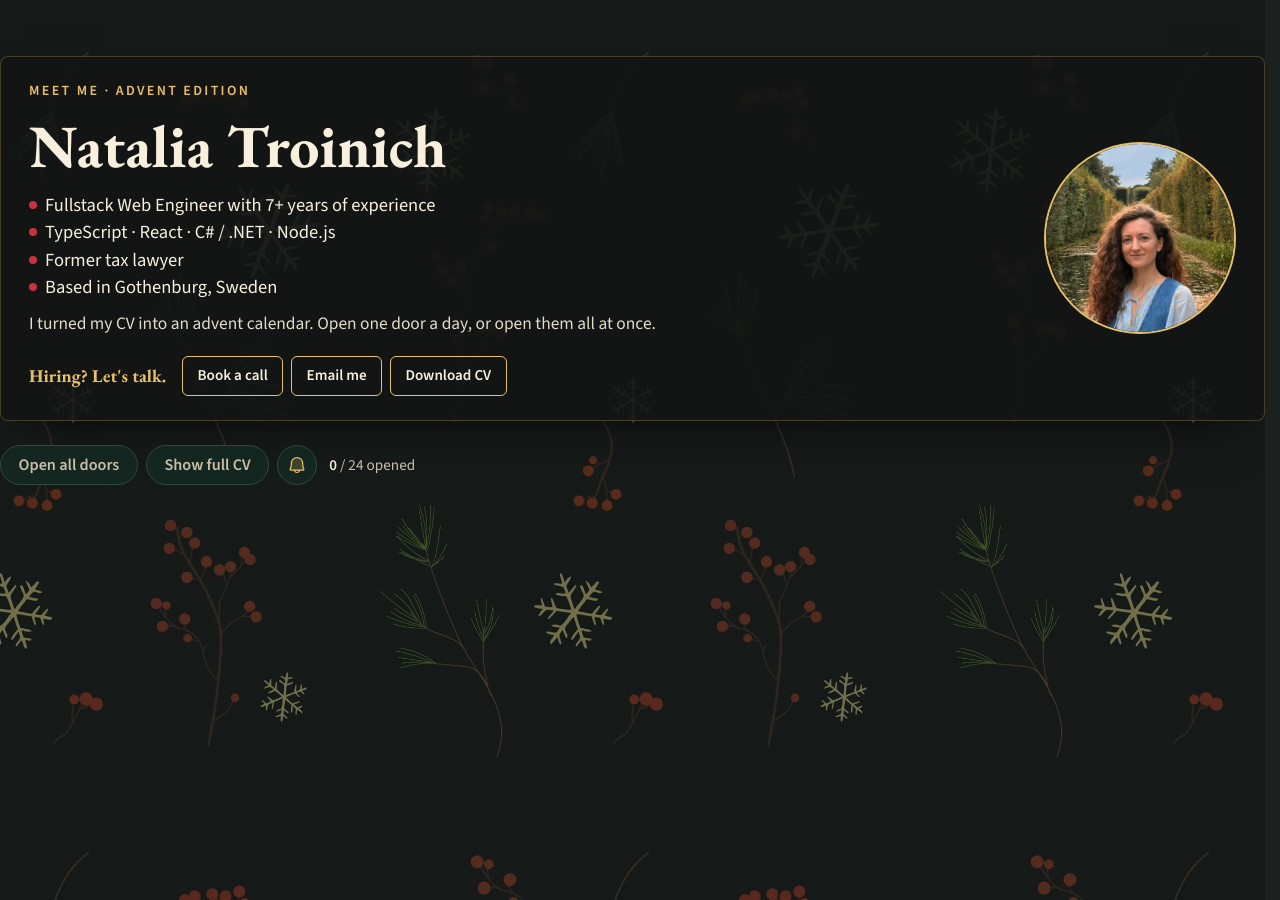
Test case: Header photo zoom › closes with Escape, the ✕ button, or a click
The width and height of the screenshot is (1280, 900).
Click the button named "Say hej: photo and intro". click: (1140, 238)
box: [1044, 142, 1236, 334]
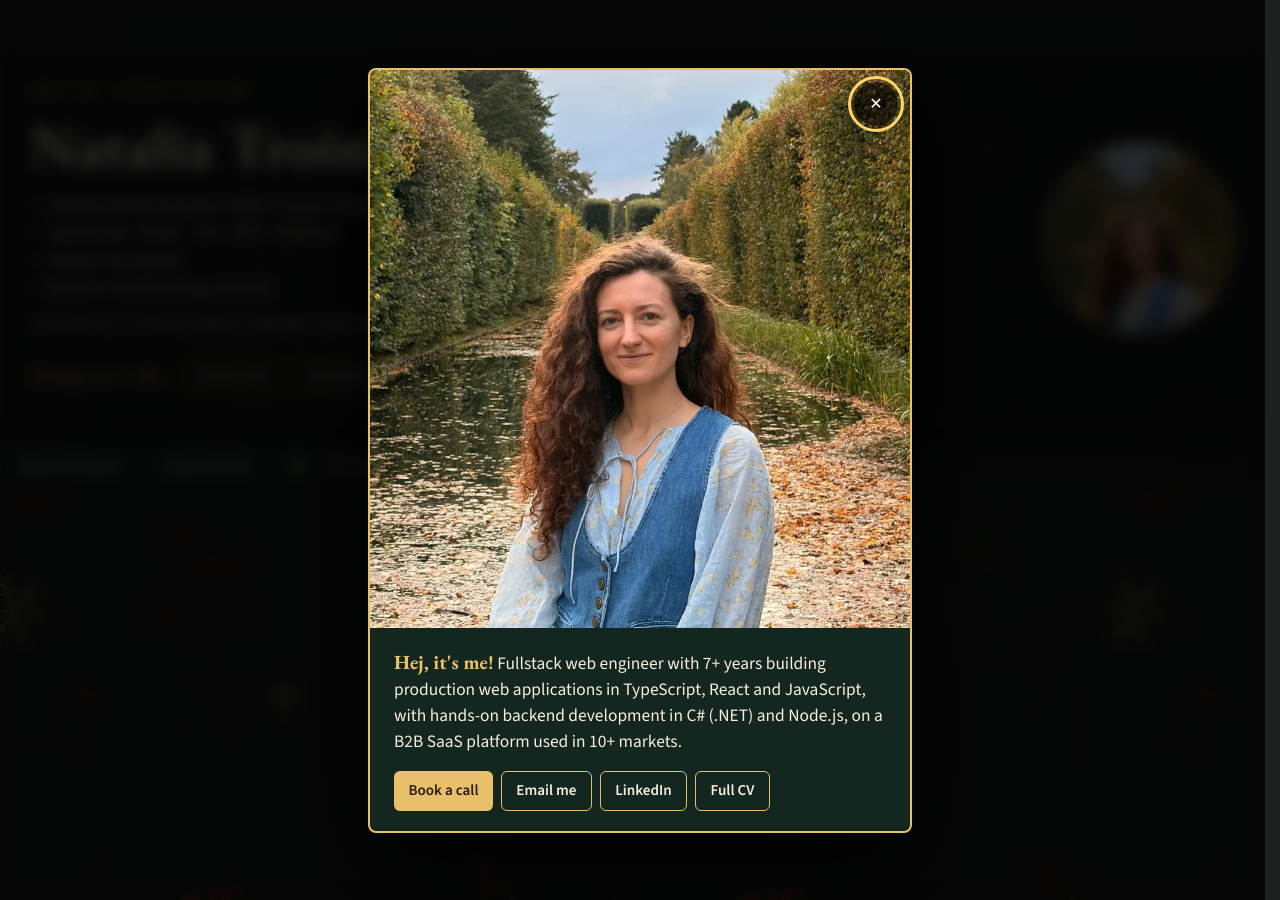
Press Escape
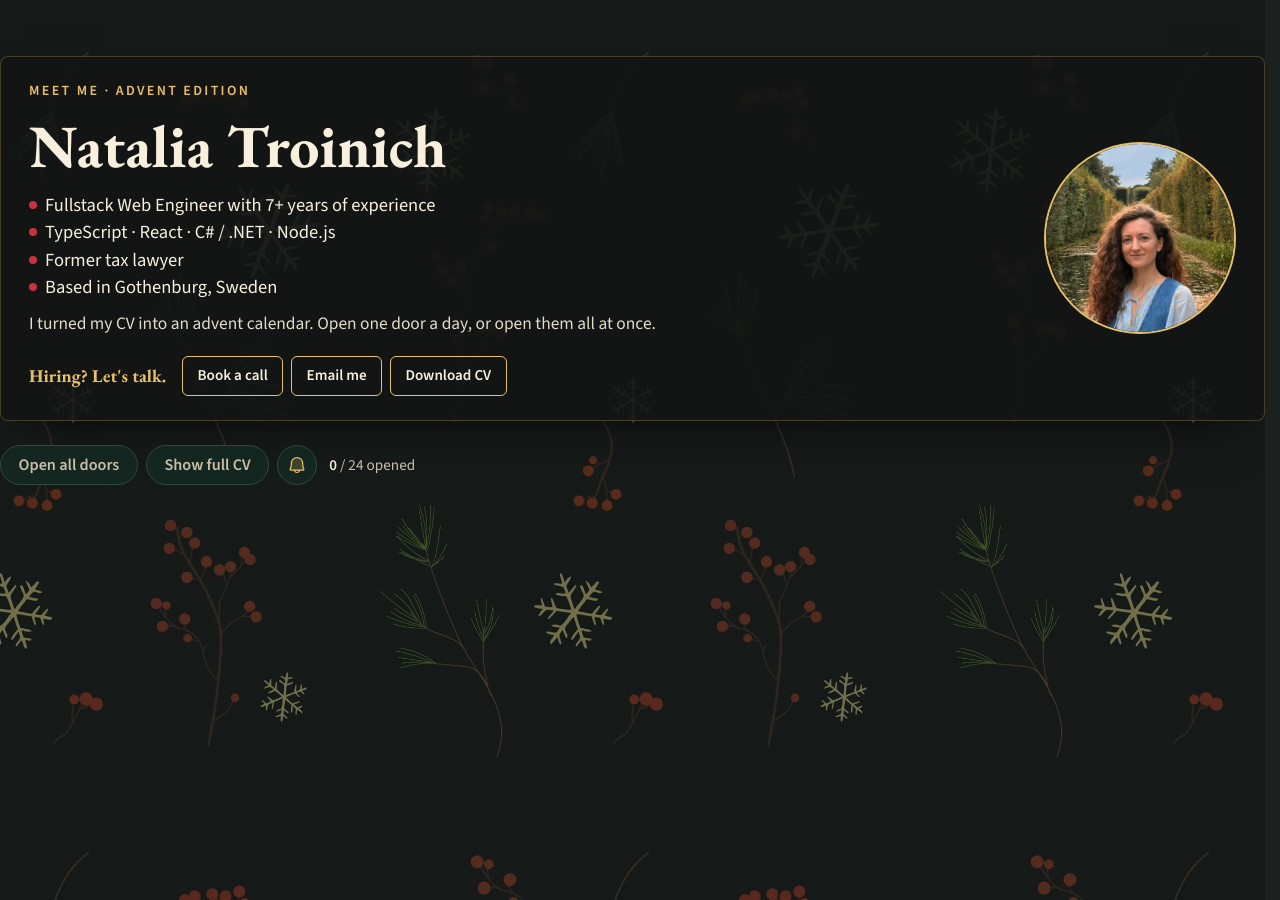
Expected: the dialog is gone
Click the button named "Say hej: photo and intro". click: (1140, 238)
box: [1044, 142, 1236, 334]
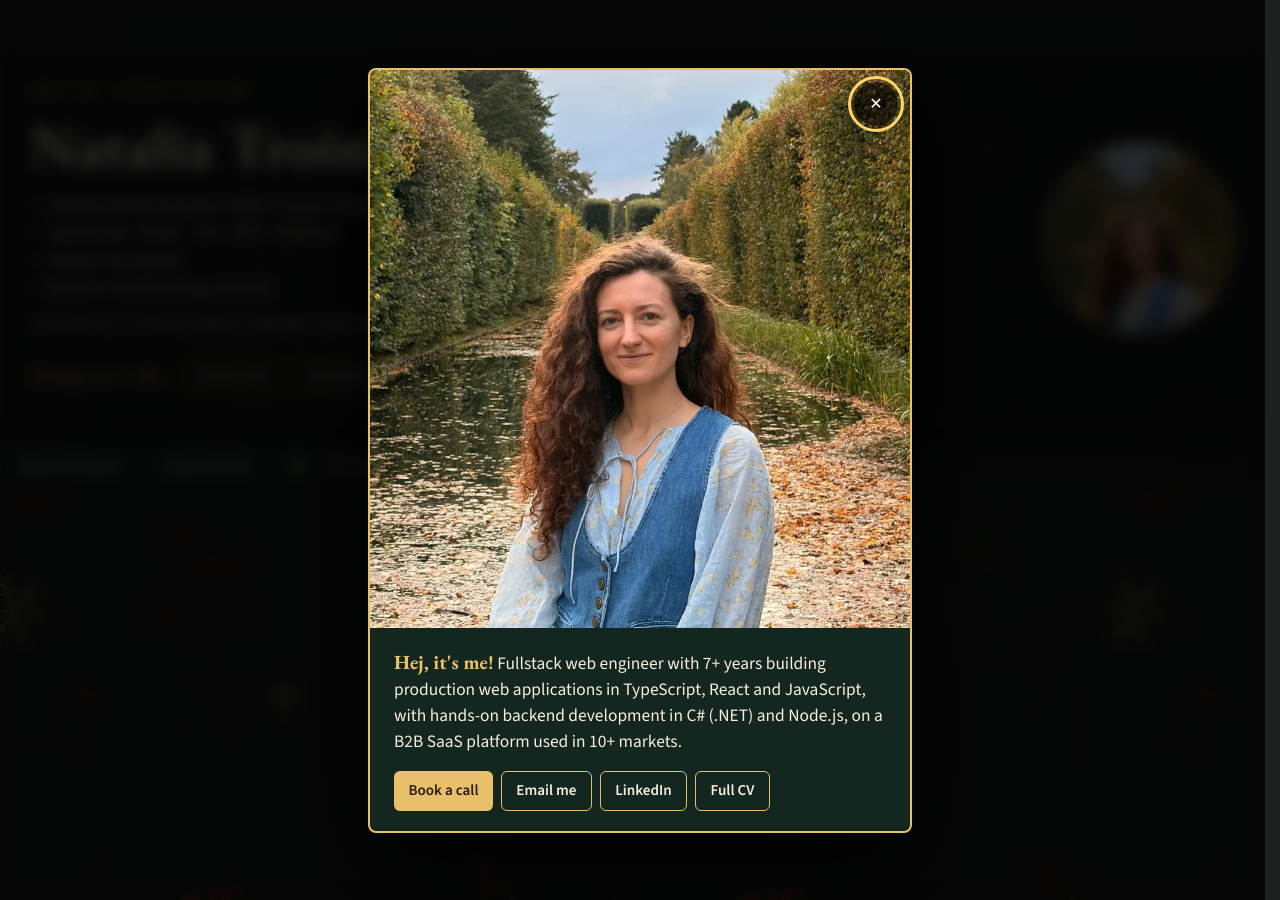
Click the button named "Close photo". click: (876, 104)
box: [854, 82, 898, 126]
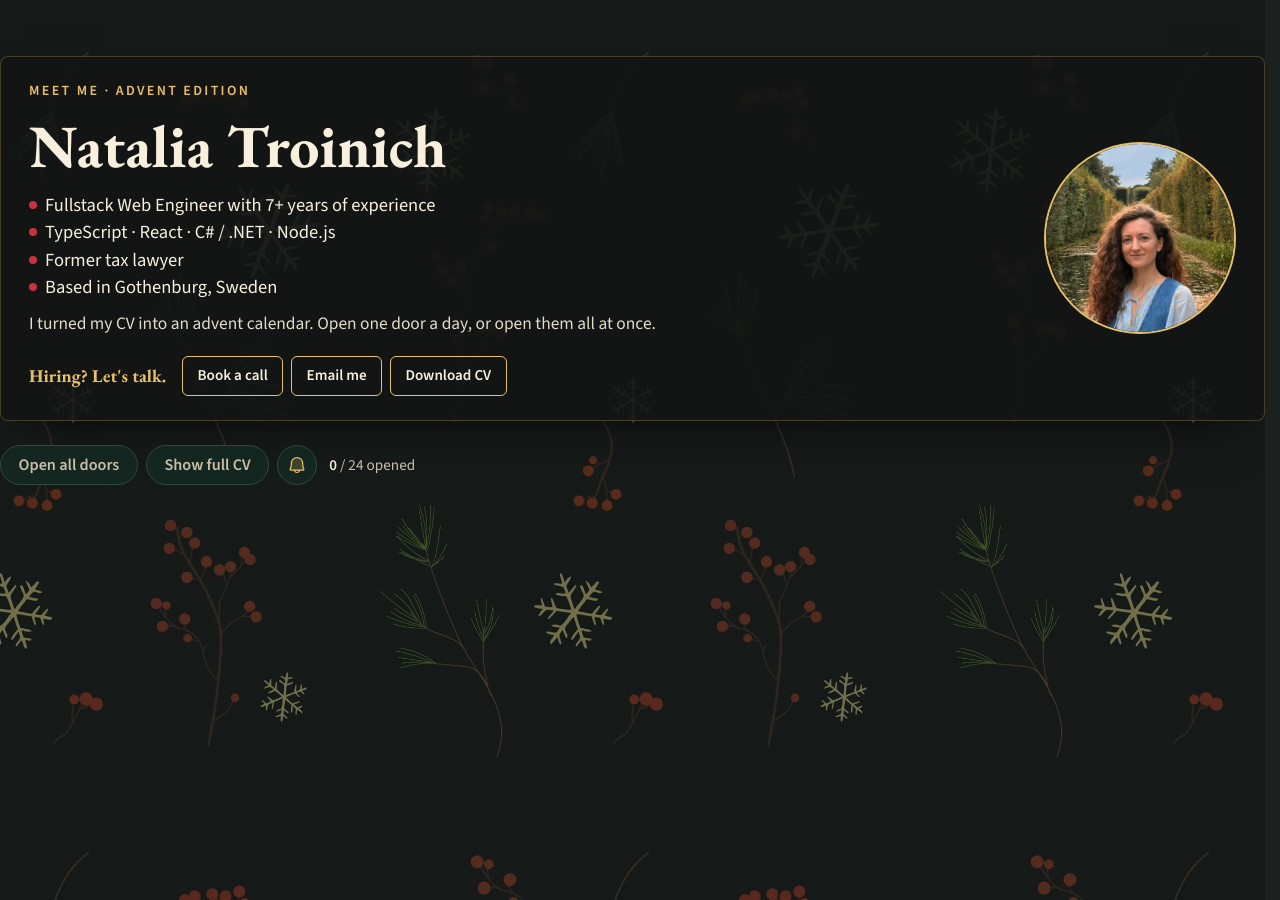
Expected: the dialog is gone
Click the button named "Say hej: photo and intro". click: (1140, 238)
box: [1044, 142, 1236, 334]
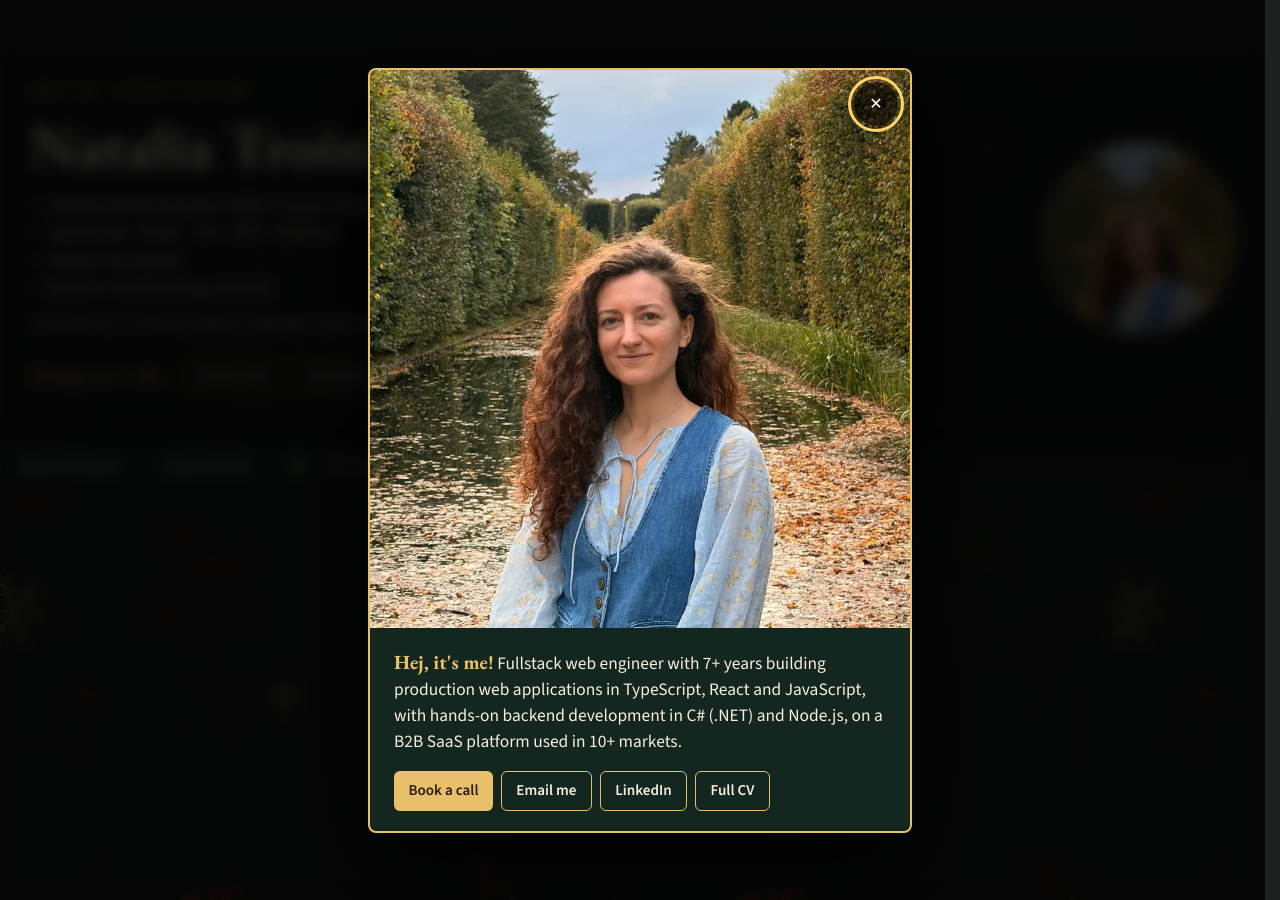
Click the picture named "autumn hedges". click: (640, 348)
box: [370, 70, 910, 628]
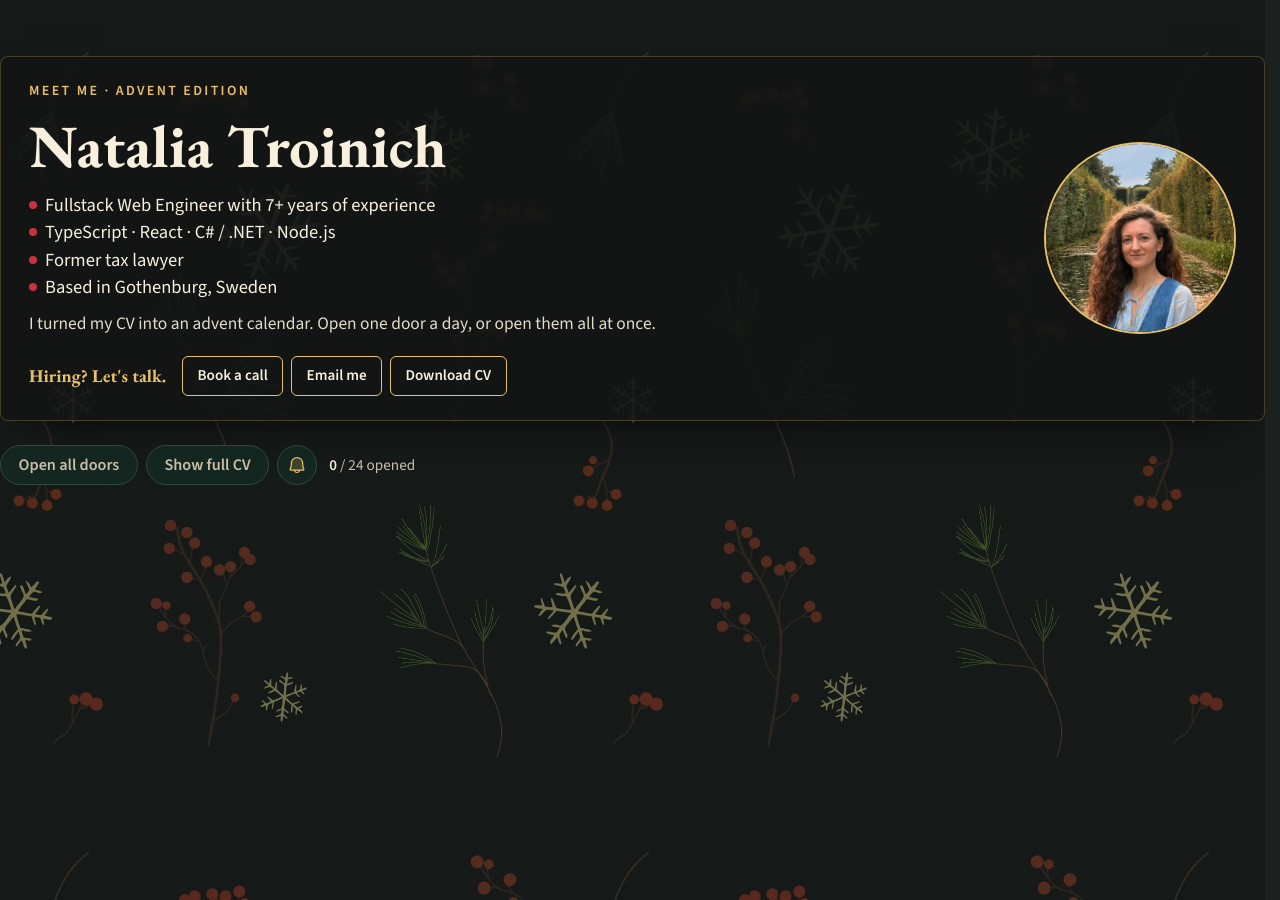
Expected: the dialog is gone
